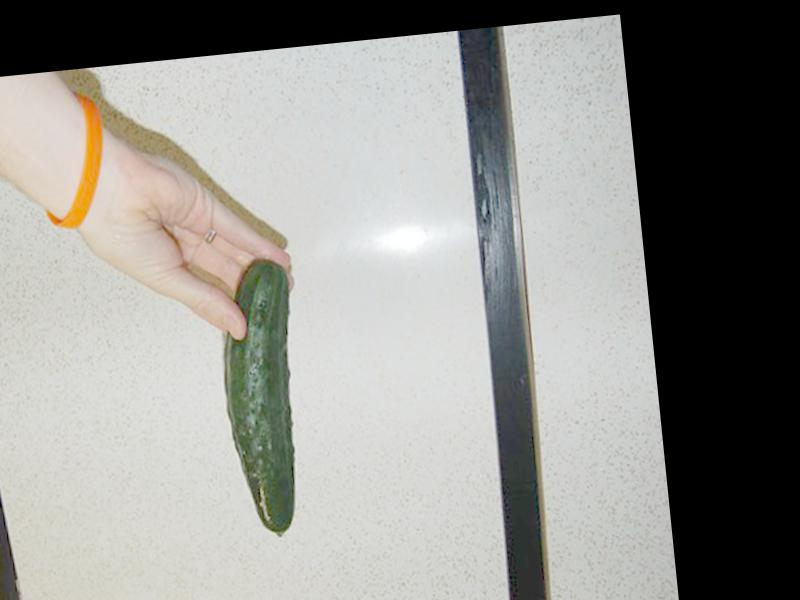Cucumber: (215, 256, 315, 542)
